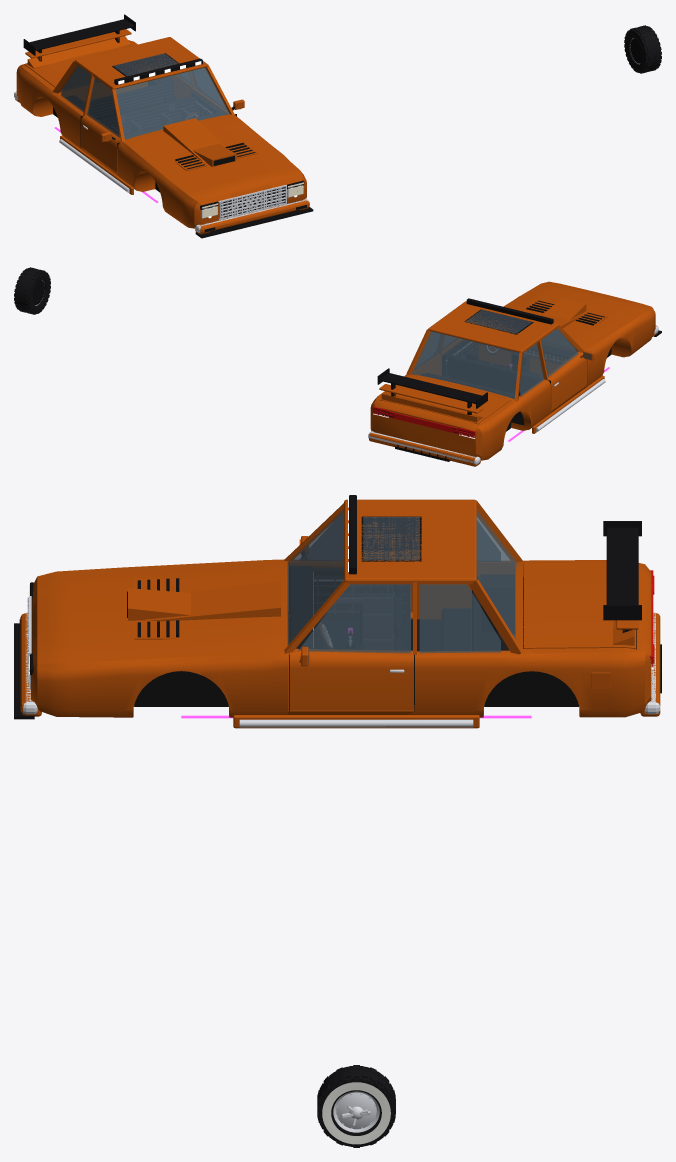
Rendered from Ironclad.glb.
3 renders of one model, top to bottom at view 1: azimuth 30°, elevation 25°; view 2: azimuth 150°, elevation 25°; view 3: azimuth 270°, elevation 25°, orthographic. The views are drawn at different scales.
Parts seen in each view (by area): view 1: Ironclad_PanelHood, Ironclad_Glass, Ironclad_PanelSideR, Ironclad_Body, Ironclad_PanelRoof, Ironclad_OptSpoilerGTDark, Ironclad_PanelDoorR, Ironclad_OptSeatsBucketsSeat, Ironclad_OptHoodCowlBody, Ironclad_RoofGlass__WinDoorR, Ironclad_RoofBody, IroncladWheel_TireOffroadRubber (+20 smaller); view 2: Ironclad_RoofGlass, Ironclad_Body, Ironclad_PanelSideR, Ironclad_PanelHood, Ironclad_PanelRoof, Ironclad_PanelDoorR, Ironclad_OptSeatsDiamondSeat, Ironclad_OptSpoilerGTDark, Ironclad_Lid, Ironclad_RoofGlass__WinDoorR, IroncladWheel_TireOffroadRubber, Ironclad_RoofBody (+18 smaller); view 3: Ironclad_PanelSideL, Ironclad_PanelHood, Ironclad_PanelRoof, Ironclad_RoofGlass, Ironclad_Lid, Ironclad_PanelDoorL, Ironclad_Body, Ironclad_RoofGlass__WinDoorL, Ironclad_Under, Ironclad_Glass, Ironclad_RoofBody, Ironclad_Carpet (+14 smaller).
Part boxes in pixels (<box>): Ironclad_PanelHood: <box>123,114,304,205</box>; Ironclad_Glass: <box>115,67,229,139</box>; Ironclad_PanelSideR: <box>16,65,195,228</box>; Ironclad_Body: <box>21,40,306,228</box>; Ironclad_PanelRoof: <box>75,37,208,89</box>; Ironclad_OptSpoilerGTDark: <box>23,14,135,61</box>; Ironclad_PanelDoorR: <box>81,114,120,172</box>; Ironclad_OptSeatsBucketsSeat: <box>76,82,179,134</box>; Ironclad_OptHoodCowlBody: <box>163,118,224,163</box>; Ironclad_RoofGlass__WinDoorR: <box>87,78,120,137</box>; Ironclad_RoofBody: <box>53,60,234,141</box>; IroncladWheel_TireOffroadRubber: <box>624,25,661,73</box>; Ironclad_RoofGlass: <box>411,331,544,399</box>; Ironclad_Body: <box>371,337,631,458</box>; Ironclad_PanelSideR: <box>475,308,655,460</box>; Ironclad_PanelHood: <box>503,281,653,350</box>; Ironclad_PanelRoof: <box>428,301,558,352</box>; Ironclad_PanelDoorR: <box>548,351,586,410</box>; Ironclad_OptSeatsDiamondSeat: <box>448,355,542,394</box>; Ironclad_OptSpoilerGTDark: <box>377,368,487,414</box>; Ironclad_Lid: <box>379,376,510,424</box>; Ironclad_RoofGlass__WinDoorR: <box>540,328,578,377</box>; IroncladWheel_TireOffroadRubber: <box>14,267,50,314</box>; Ironclad_RoofBody: <box>406,325,583,401</box>; Ironclad_PanelSideL: <box>37,652,651,717</box>; Ironclad_PanelHood: <box>32,559,285,670</box>; Ironclad_PanelRoof: <box>344,499,476,581</box>; Ironclad_RoofGlass: <box>419,510,516,653</box>; Ironclad_Lid: <box>524,562,636,649</box>; Ironclad_PanelDoorL: <box>289,648,413,710</box>; Ironclad_Body: <box>31,560,651,717</box>; Ironclad_RoofGlass__WinDoorL: <box>298,584,410,653</box>; Ironclad_Under: <box>134,576,636,706</box>; Ironclad_Glass: <box>287,509,343,645</box>; Ironclad_RoofBody: <box>284,500,522,656</box>; Ironclad_Carpet: <box>323,575,514,704</box>.
Bounding box in the file's own units: 35.07 × 7.09 × 20.25.
